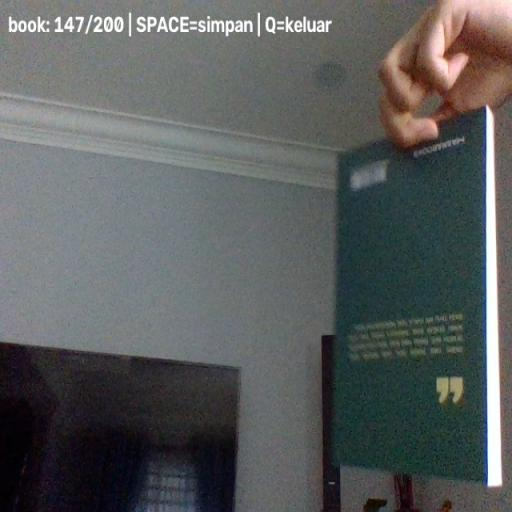Book: (332, 104, 502, 486)
